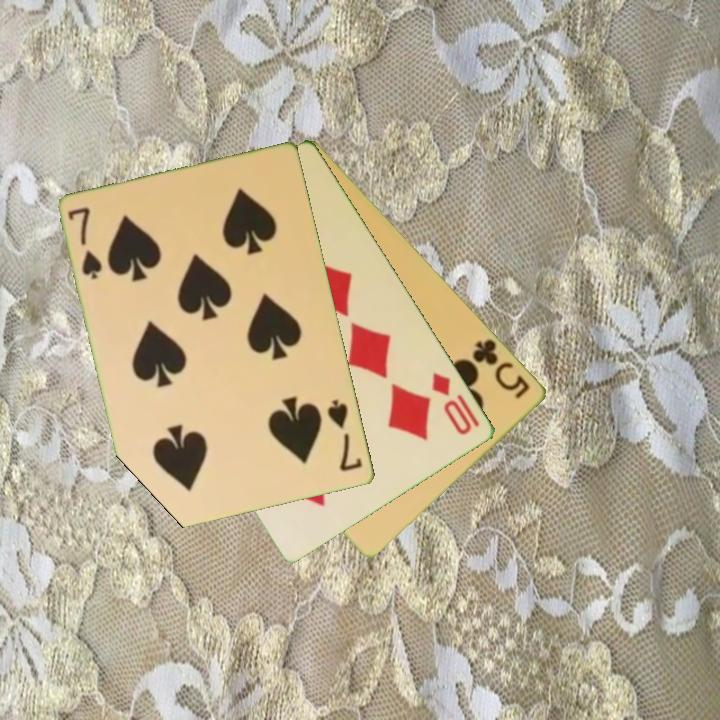10d: (429, 368, 476, 438)
5c: (469, 335, 534, 402)
7s: (324, 396, 366, 475), (65, 204, 106, 283)
